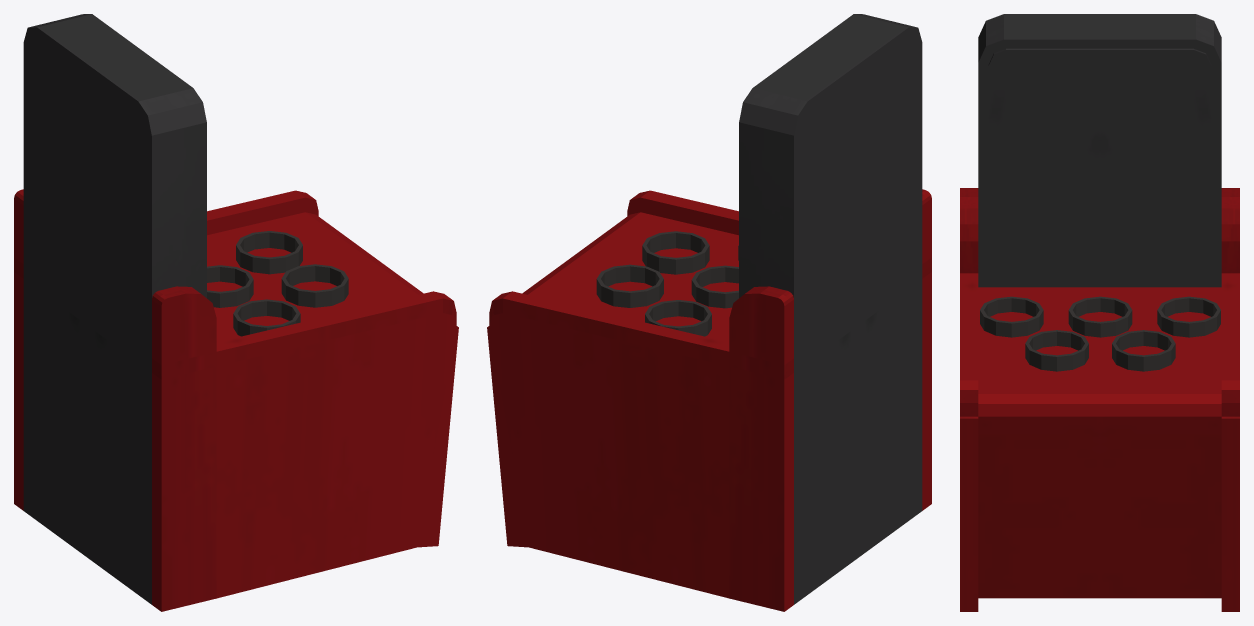
Rendered from wackamole.fbx.
The picture shows the model from 3 angles, left to right: view 1: azimuth 30°, elevation 25°; view 2: azimuth 150°, elevation 25°; view 3: azimuth 270°, elevation 25°; orthographic projection. The views are drawn at different scales.
Visible parts, largest first — view 1: Cube, Cylinder.001; view 2: Cube, Cylinder.001; view 3: Cube, Cylinder.001.
Boxes of the visible parts, left/top/right/bottom form: Cube: left=14, top=14, right=458, bottom=611; Cylinder.001: left=207, top=231, right=348, bottom=336; Cube: left=487, top=14, right=931, bottom=611; Cylinder.001: left=596, top=231, right=738, bottom=336; Cube: left=960, top=14, right=1239, bottom=611; Cylinder.001: left=980, top=296, right=1220, bottom=371.
Size of the model in its own units: 268 by 427 by 230.
